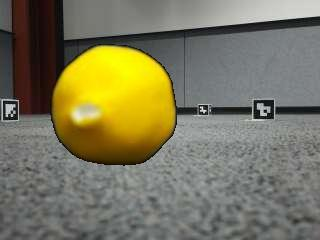lemon: (52, 46, 174, 164)
